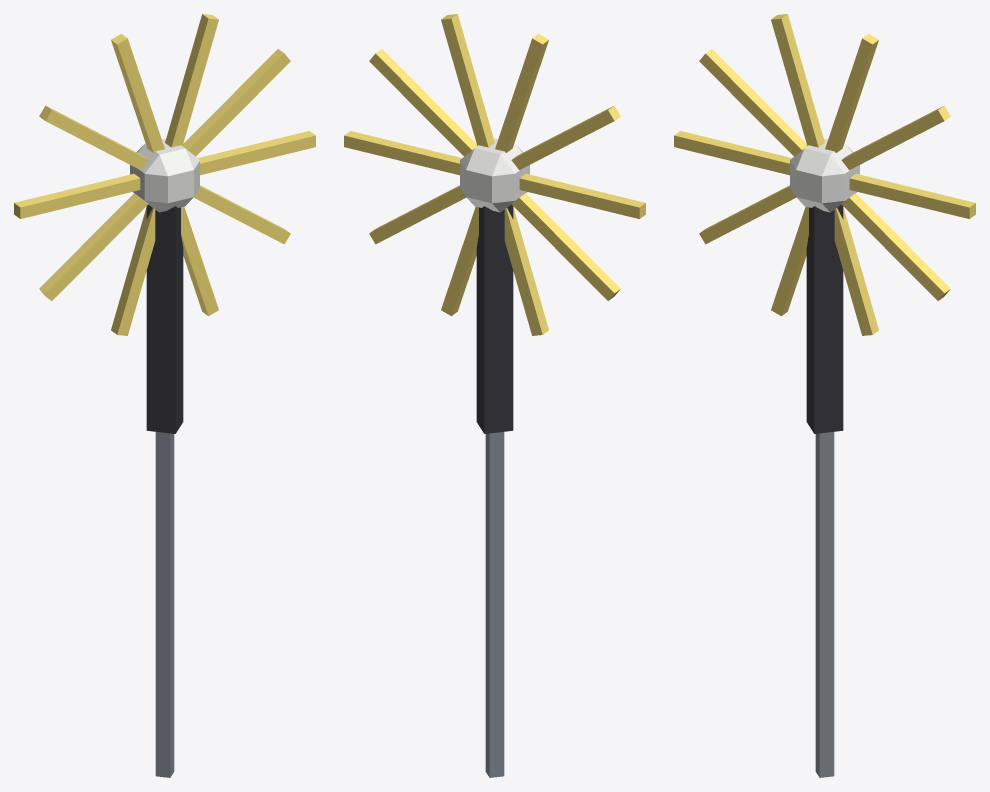
Rendered from Sparkler.fbx.
The picture shows the model from 3 angles, left to right: view 1: azimuth 30°, elevation 25°; view 2: azimuth 150°, elevation 25°; view 3: azimuth 330°, elevation 25°; orthographic projection.
Visible parts, largest first — view 1: Sparkler; view 2: Sparkler; view 3: Sparkler.
Part boxes in pixels (x1,y1,x2,y2): Sparkler: (14, 14, 315, 777); Sparkler: (344, 14, 645, 777); Sparkler: (674, 14, 975, 777).
Bounding box in the file's own units: 1.6 × 3.87 × 0.3.
Materials: 1 (1 with a texture image).
